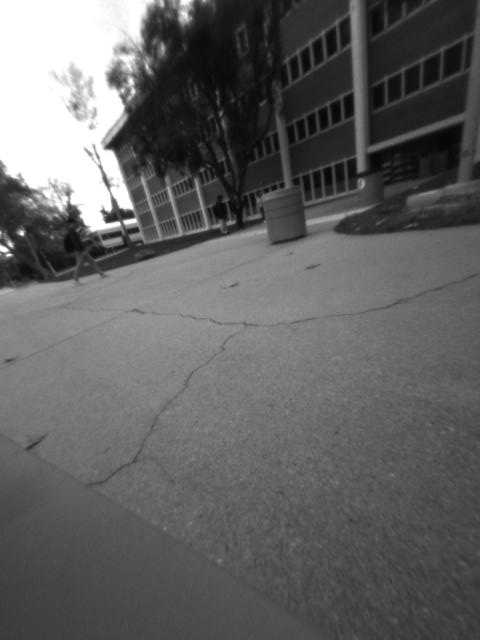trashcan: (258, 180, 309, 247), (353, 166, 387, 210)
